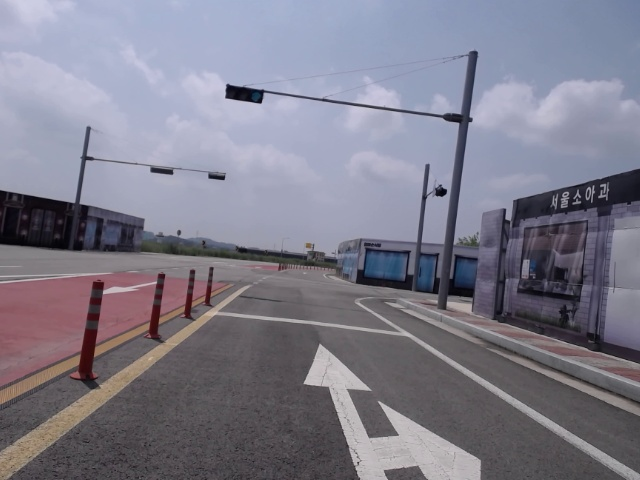green_3: (226, 84, 263, 104)
